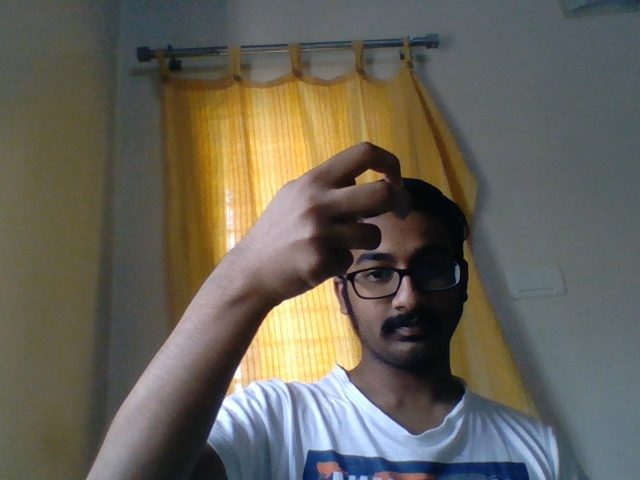thanks: (211, 115, 415, 317)
